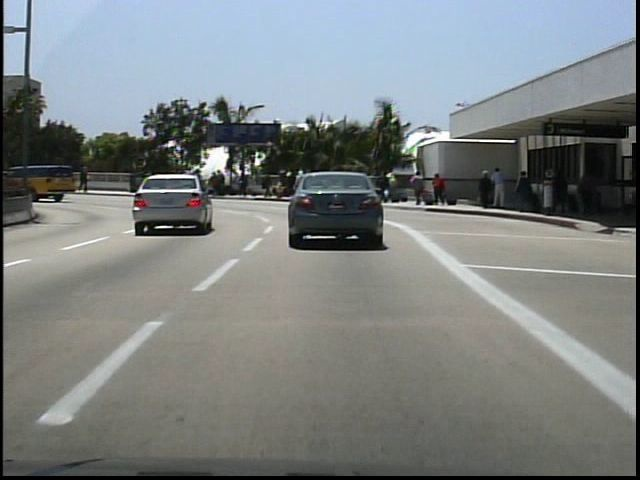person: (579, 163, 603, 219), (514, 167, 536, 216), (488, 164, 509, 215), (552, 165, 572, 216), (478, 167, 496, 210), (432, 168, 450, 208), (410, 170, 428, 209), (379, 170, 392, 207), (145, 167, 163, 193), (128, 170, 141, 194), (83, 164, 93, 195)
